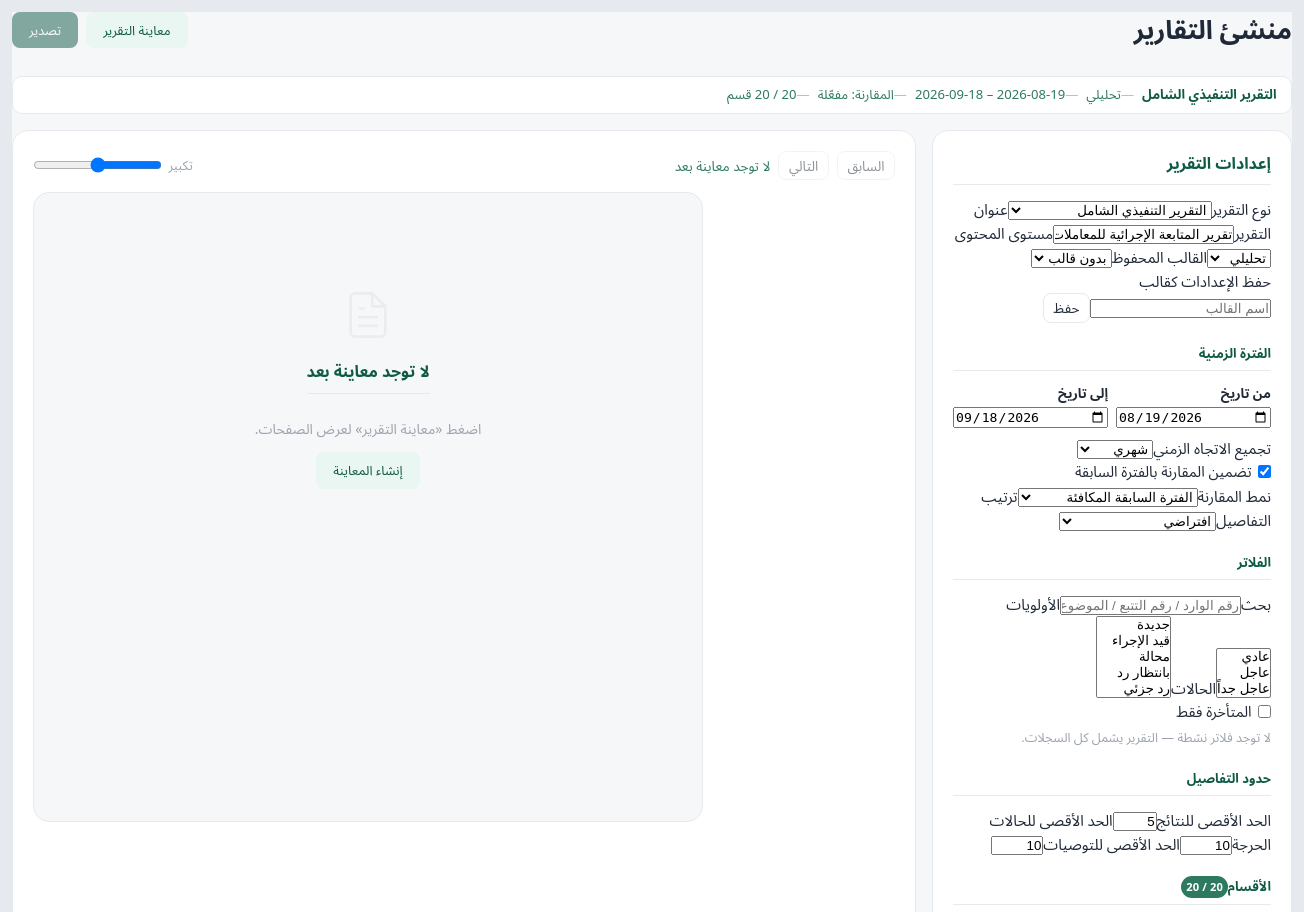
Scenario: ReportBuilderPage export dialog › does not open dialog when preview fails
Step 1. Click the button "معاينة التقرير" → (137, 30), box [86,12,188,48]
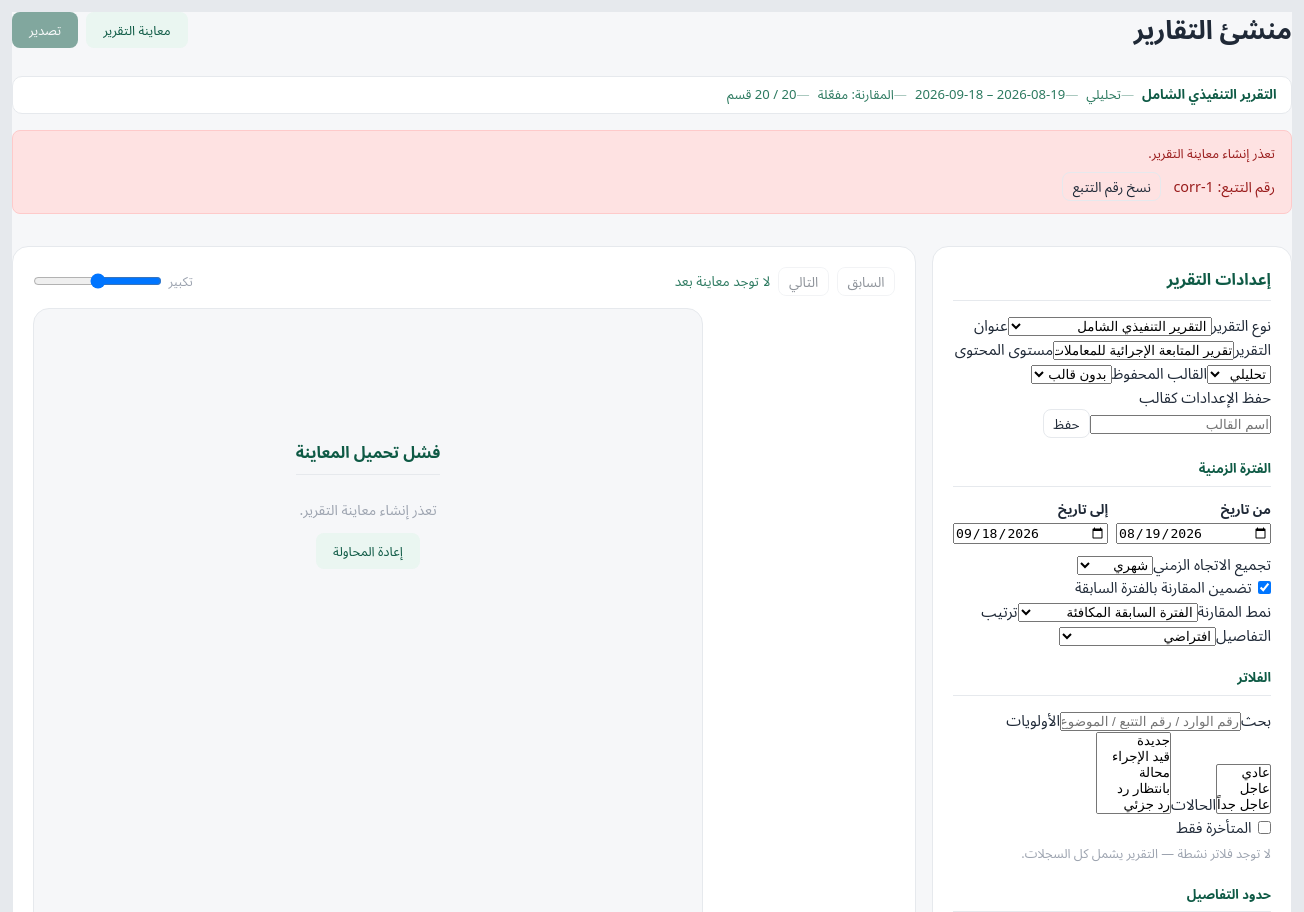
Check: the message does not show "تعذر إنشاء معاينة التقرير: تعذر إنشاء معاينة التقرير", box [12,130,1292,214]
Check: the 1st text "تعذر إنشاء معاينة التقرير." is shown, box [1148,144,1275,162]
Check: the text "رقم التتبع: corr-1" is shown, box [1173,175,1275,198]
